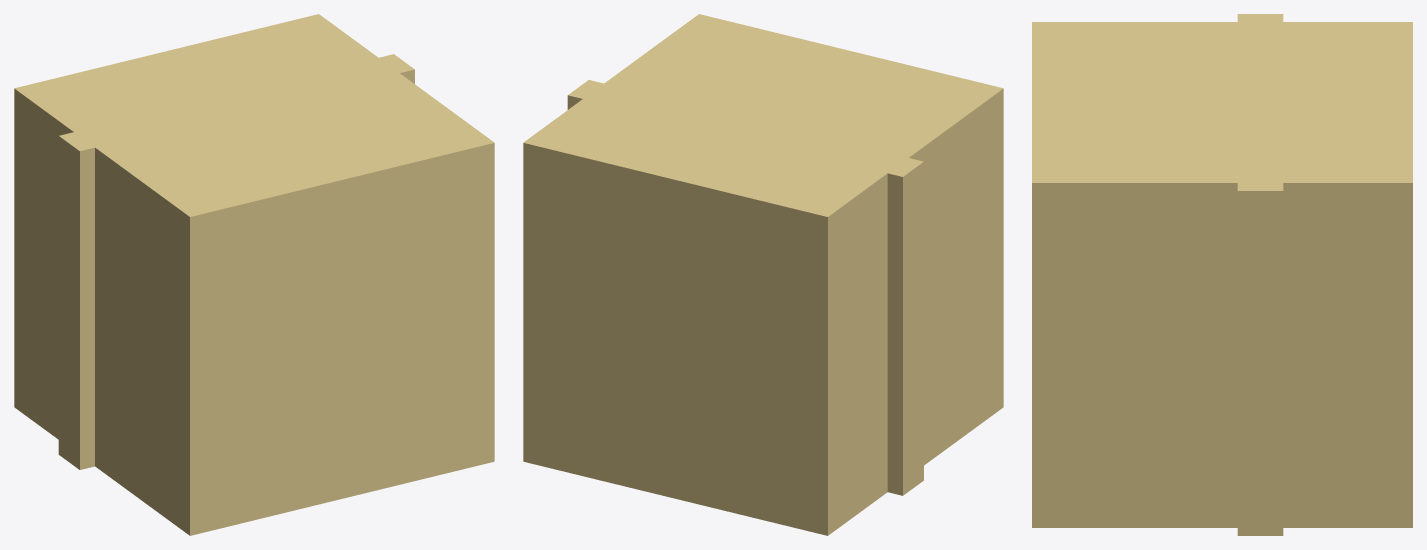
File: 89_thatch_roof.glb
The picture shows the model from 3 angles, left to right: view 1: azimuth 30°, elevation 25°; view 2: azimuth 150°, elevation 25°; view 3: azimuth 270°, elevation 25°; orthographic projection. The views are drawn at different scales.
Parts seen in each view (by area): view 1: Core, Tile_0, Tile_2, Tile_1, Tile_4, Tile_3; view 2: Core, Tile_0, Tile_3; view 3: Core, Tile_4, Tile_2, Tile_3, Tile_1, Tile_0.
Boxes of the visible parts, x1,y1,x2,y2 form: Core: (14, 14, 494, 535); Tile_0: (58, 119, 146, 469); Tile_2: (158, 61, 245, 88); Tile_1: (113, 90, 195, 121); Tile_4: (327, 54, 414, 85); Tile_3: (243, 57, 322, 89); Core: (523, 14, 1003, 535); Tile_0: (850, 146, 923, 495); Tile_3: (619, 109, 702, 140); Core: (1032, 22, 1412, 527); Tile_4: (1237, 155, 1283, 535); Tile_2: (1314, 84, 1359, 120); Tile_3: (1275, 120, 1321, 155); Tile_1: (1275, 49, 1321, 84); Tile_0: (1237, 14, 1283, 48).
Bounding box in the file's own units: 1.1 × 1 × 1.
